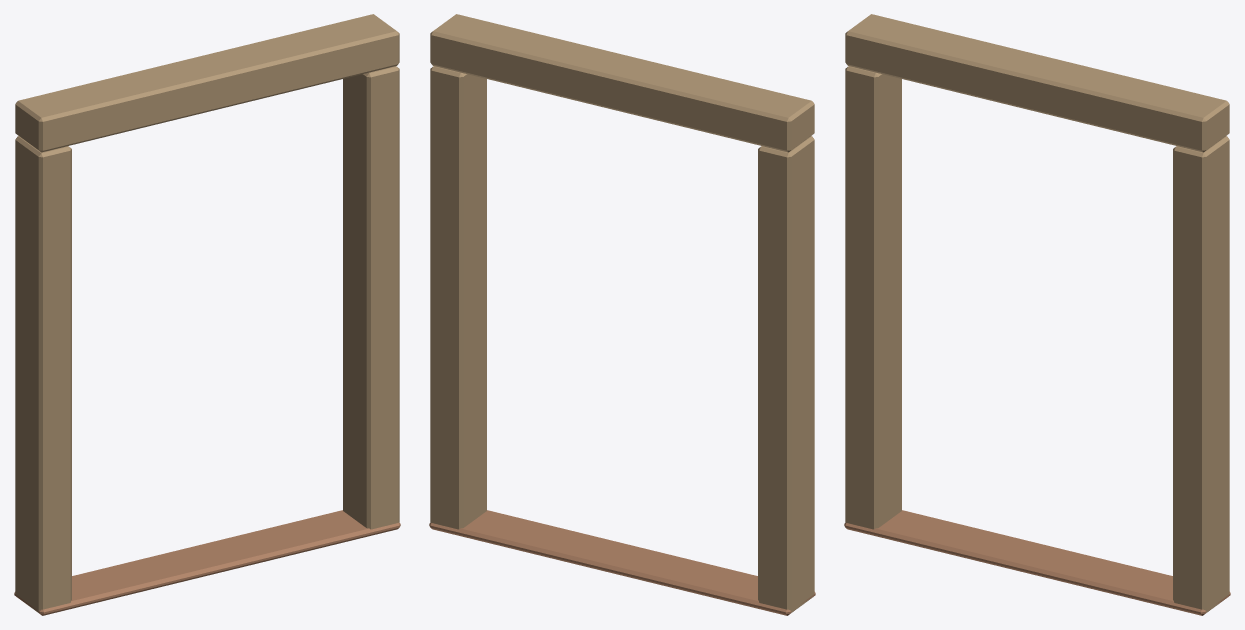
File: hotel_door_frame.glb
3 renders of one model, left to right at view 1: azimuth 30°, elevation 25°; view 2: azimuth 150°, elevation 25°; view 3: azimuth 330°, elevation 25°, orthographic.
Parts seen in each view (by area): view 1: hotel_door_frame; view 2: hotel_door_frame; view 3: hotel_door_frame.
Boxes of the visible parts, x1,y1,x2,y2 form: hotel_door_frame: (14, 14, 400, 615); hotel_door_frame: (429, 14, 815, 615); hotel_door_frame: (844, 14, 1230, 615).
Size of the model in its own units: 1.96 by 2.58 by 0.27.
